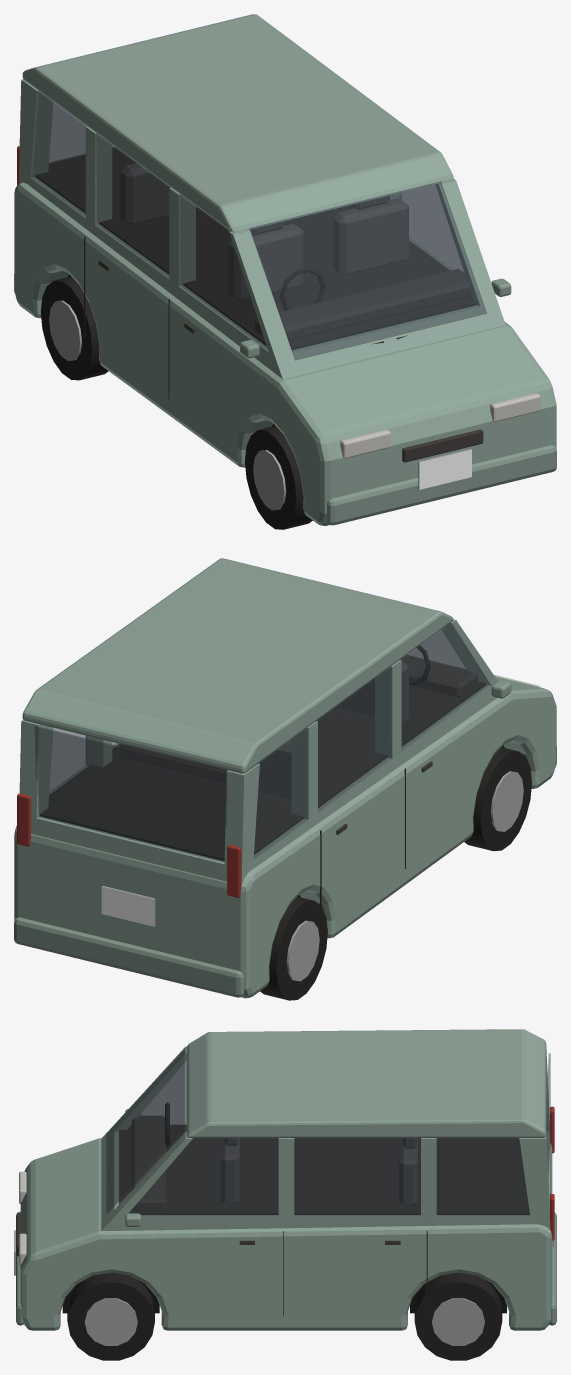
The model's file is vehicle_kei_car_01.glb.
The picture shows the model from 3 angles, top to bottom: view 1: azimuth 30°, elevation 25°; view 2: azimuth 150°, elevation 25°; view 3: azimuth 270°, elevation 25°; orthographic projection. The views are drawn at different scales.
Parts seen in each view (by area): view 1: vehicle_kei_car_01; view 2: vehicle_kei_car_01; view 3: vehicle_kei_car_01.
Boxes of the visible parts, x1,y1,x2,y2 form: vehicle_kei_car_01: (14, 14, 556, 529); vehicle_kei_car_01: (14, 558, 556, 1000); vehicle_kei_car_01: (14, 1029, 556, 1360).
Bounding box in the file's own units: 1.66 × 1.68 × 3.47.
